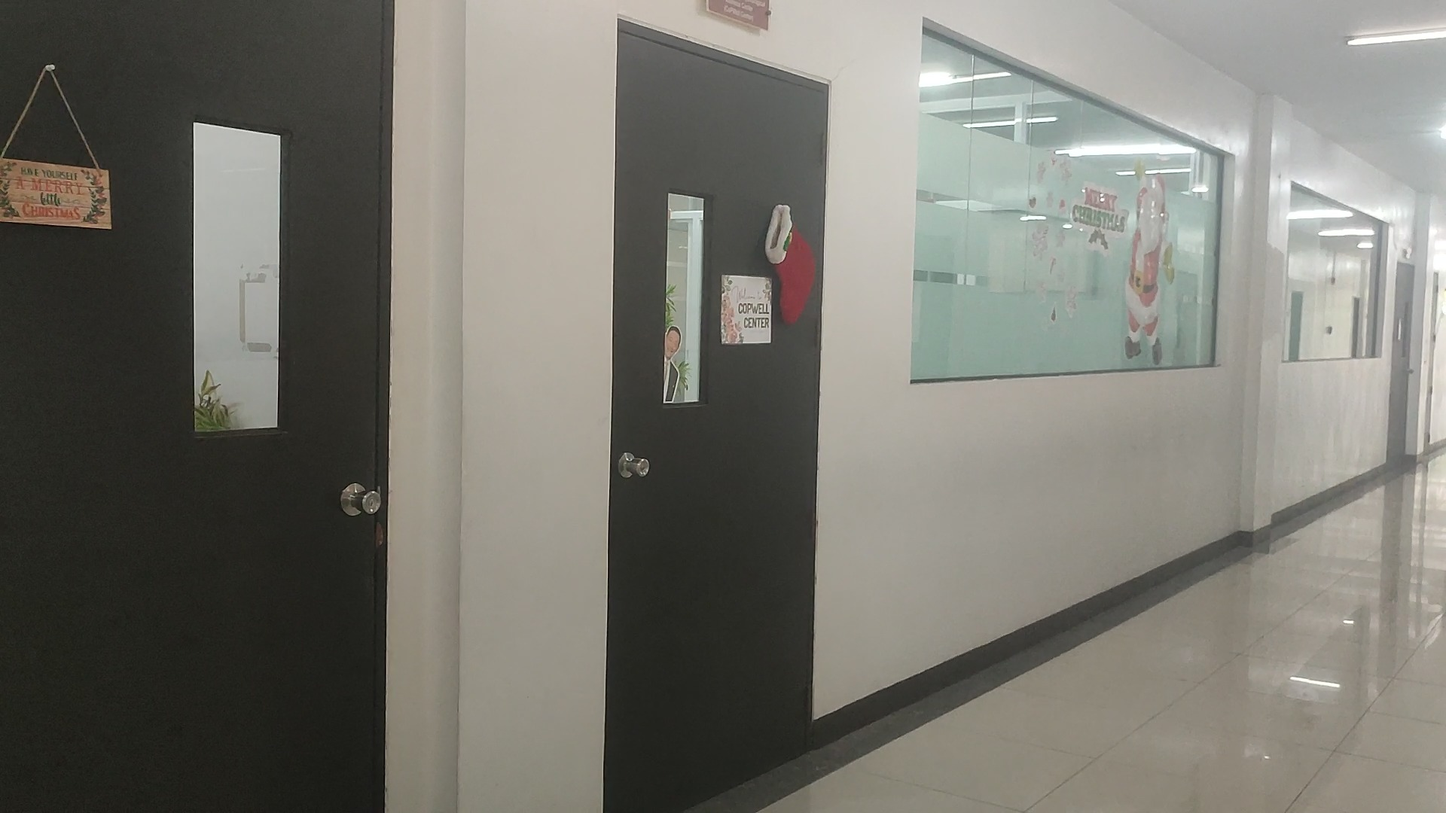door: (0, 0, 392, 799), (602, 20, 828, 813)
